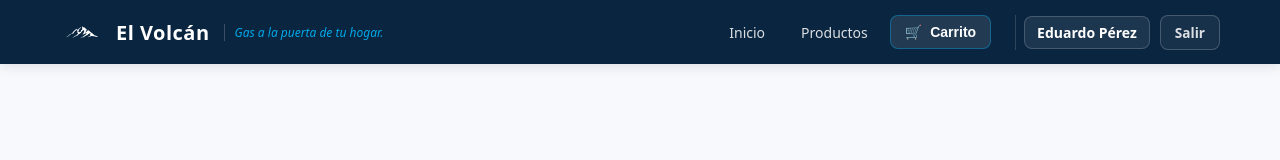
Test case: Pruebas Unitarias - Comportamiento de Componentes y Manipulación del DOM › 13. Navbar: Renderiza el nombre del cliente y botón 'Salir' cuando hay sesión, y al hacer clic cierra la sesión en el DOM
The image size is (1280, 160).
Expected: the text "Eduardo Pérez" is shown, [1024, 16, 1150, 48]
Click the button "Salir" at (1190, 32), box [1160, 14, 1220, 50]
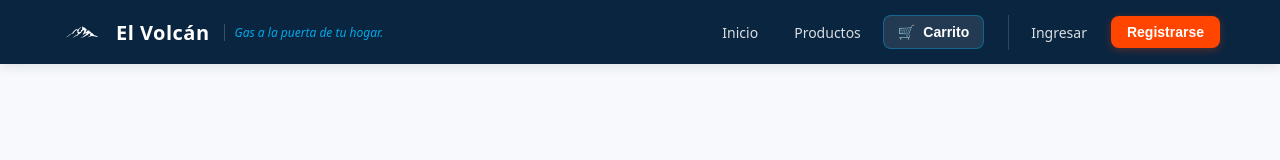
Expected: the text "Eduardo Pérez" is gone
Expected: the button "Ingresar" is shown, [1017, 14, 1101, 50]
